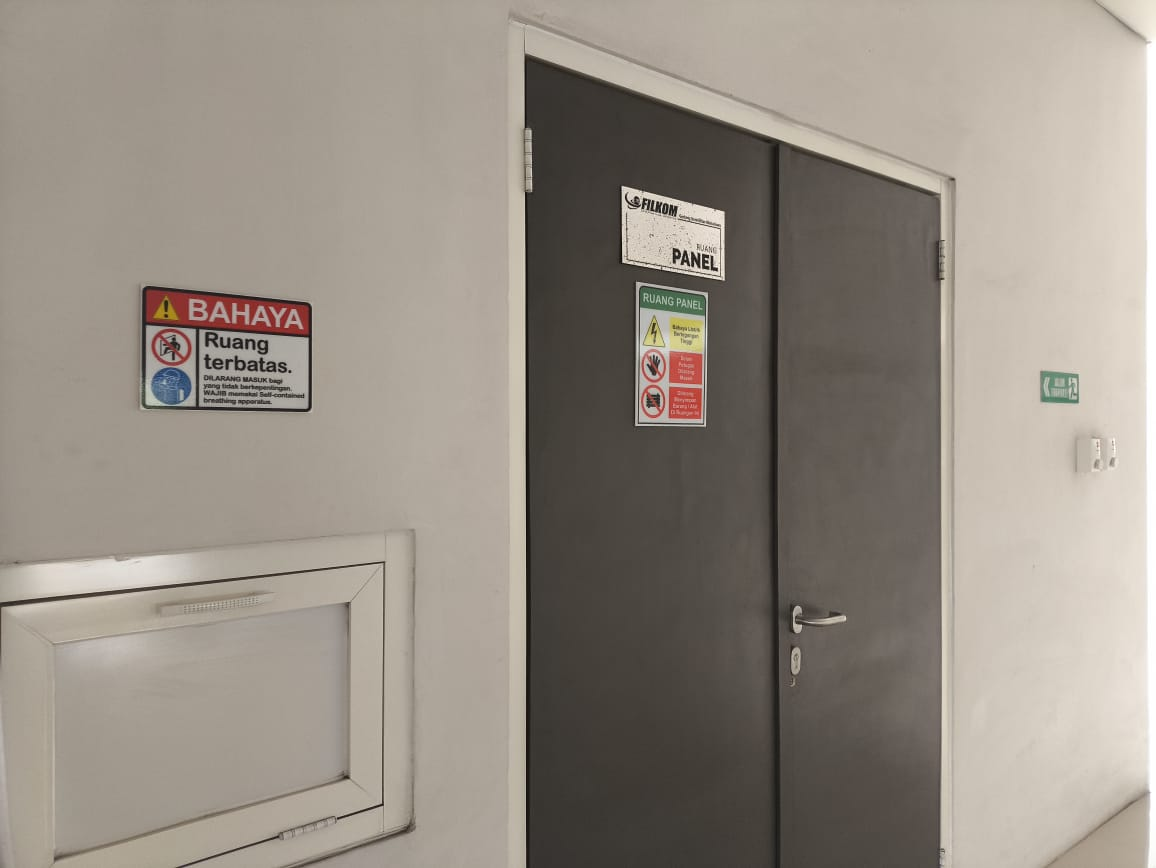ruang panel: (610, 174, 732, 286)
